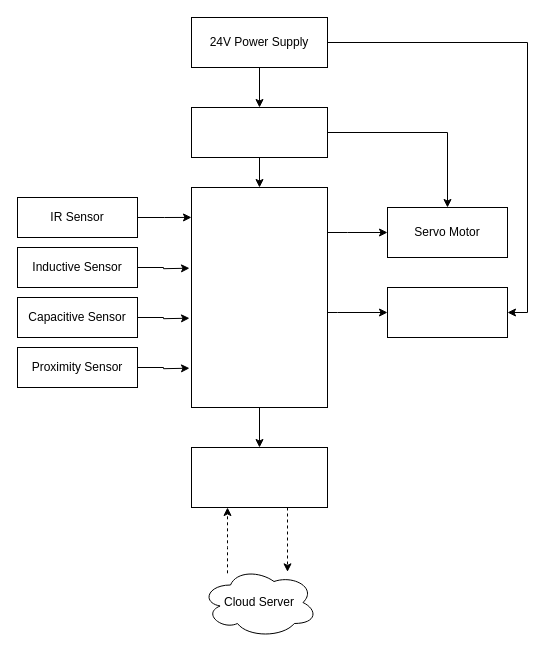
The diagram is 553 pixels wide and 655 high, and some of its shapes have lost their labels. Here are the shapes that lost their labels. From the top down, the centre of each, then its label:
point 259,132: 5V Voltage Regulator
point 259,297: Arduino Mega
point 447,312: Stepper Motor
point 259,477: ESP32 Wi-Fi Module
